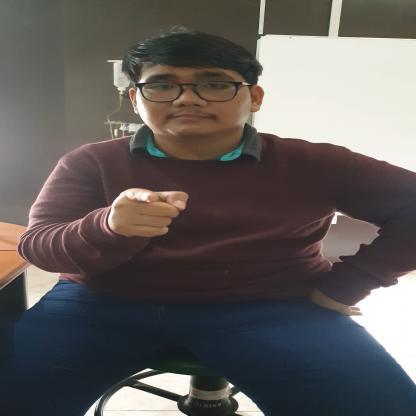Kamu: (88, 183, 190, 245)
